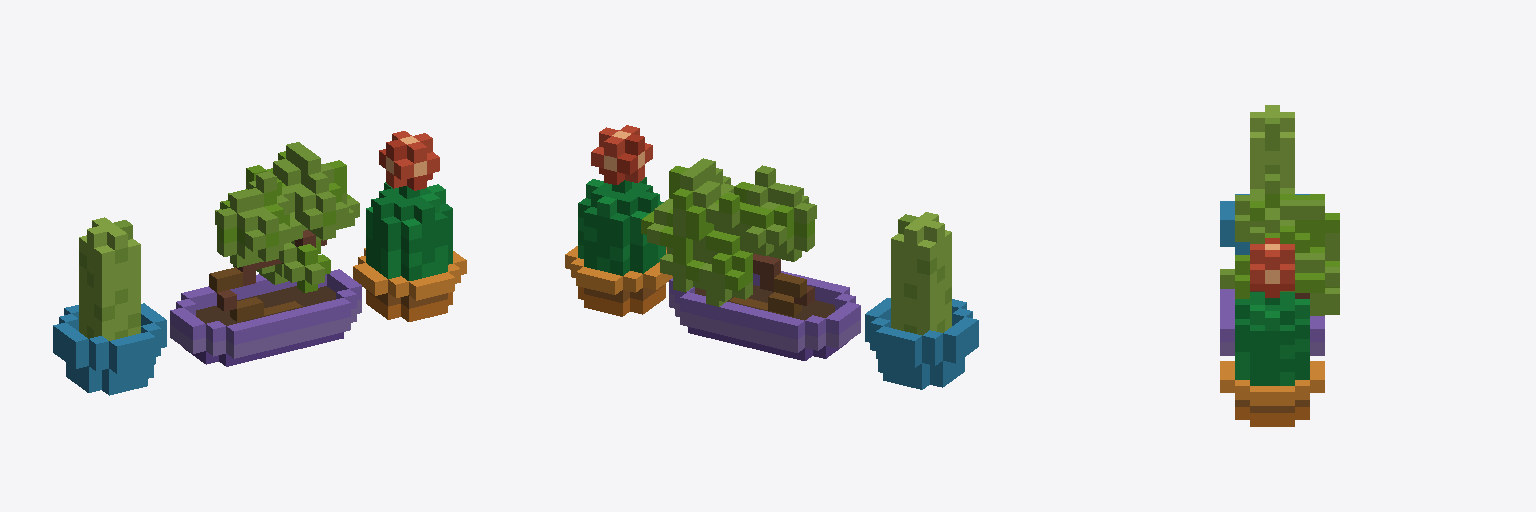
The picture shows the model from 3 angles: view 1: azimuth 30°, elevation 25°; view 2: azimuth 150°, elevation 25°; view 3: azimuth 270°, elevation 25°; orthographic projection.
Bounding box in the file's own units: 30 × 12 × 8.
1 materials, 1 textured.